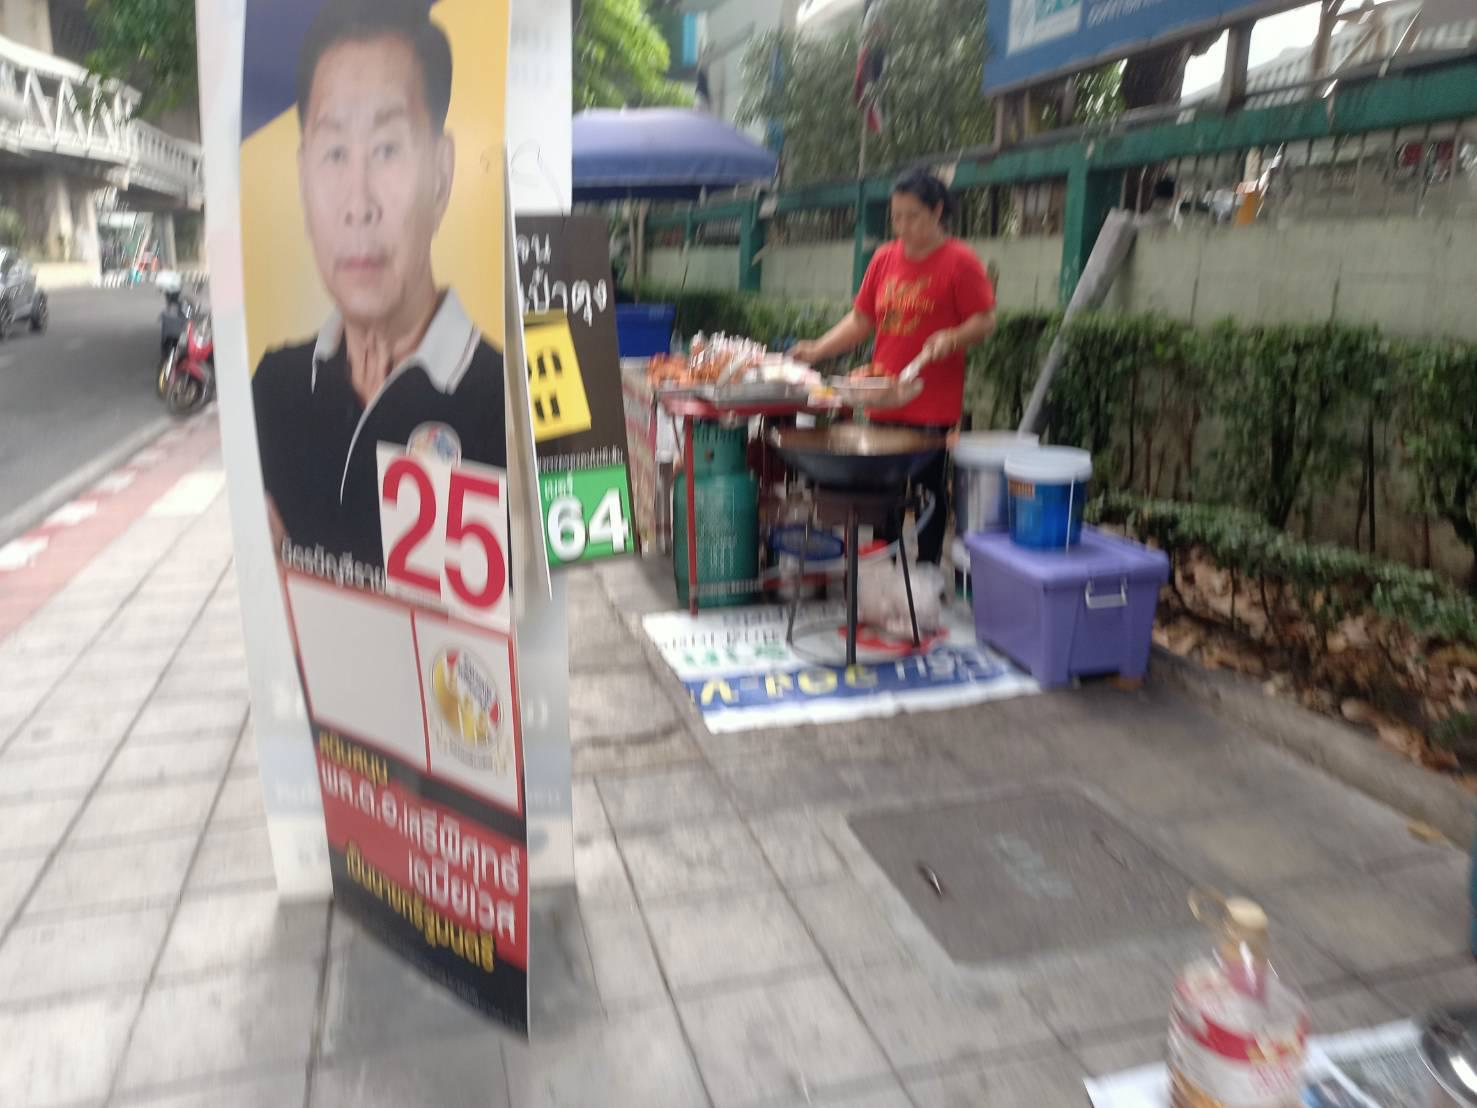Banner: (242, 0, 521, 1024)
